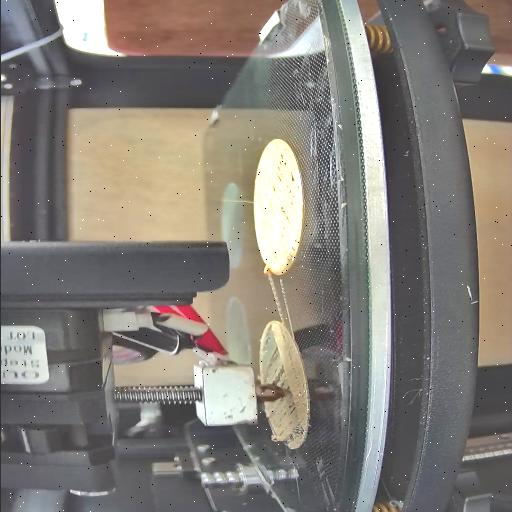under_extrusion: (270, 140, 296, 266), (260, 402, 300, 442), (256, 348, 292, 386)
